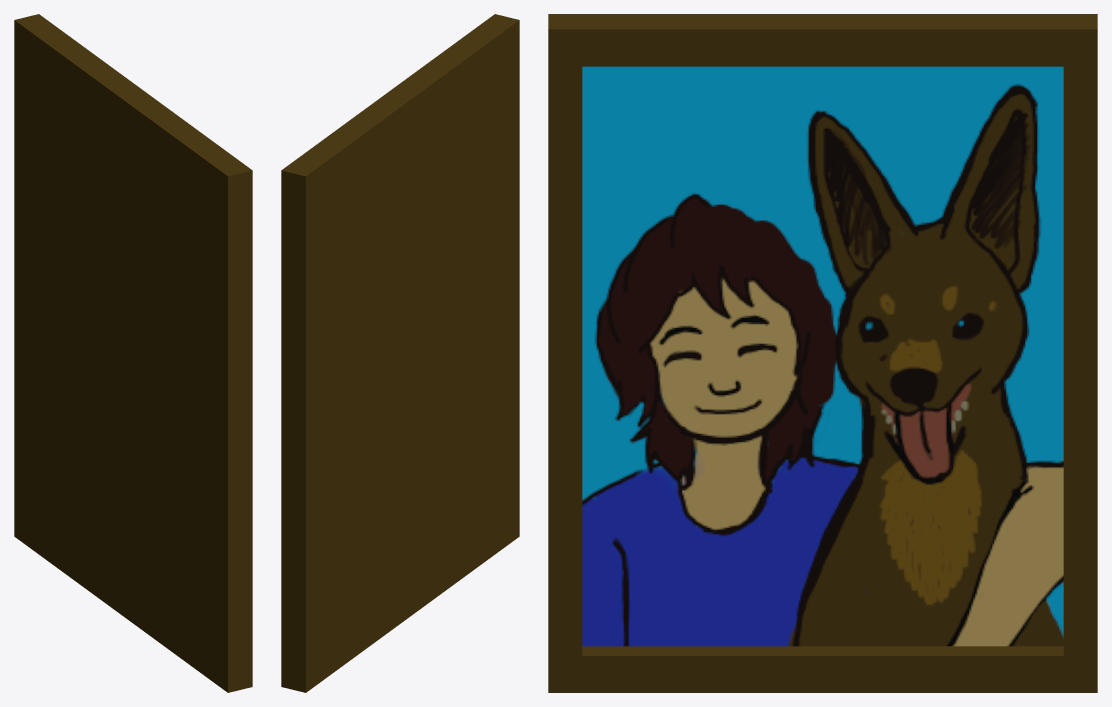
The model's file is FBX_Photo_BoyWithDog.fbx.
3 renders of one model, left to right at view 1: azimuth 30°, elevation 25°; view 2: azimuth 150°, elevation 25°; view 3: azimuth 270°, elevation 25°, orthographic. The views are drawn at different scales.
Parts seen in each view (by area): view 1: FBX_PhotoFrame; view 2: FBX_PhotoFrame; view 3: FBX_PhotoFrame.
Boxes of the visible parts, <box> form: FBX_PhotoFrame: <box>14,14,252,692</box>; FBX_PhotoFrame: <box>281,14,519,692</box>; FBX_PhotoFrame: <box>548,14,1097,692</box>.
Size of the model in its own units: 1 by 20 by 15.
